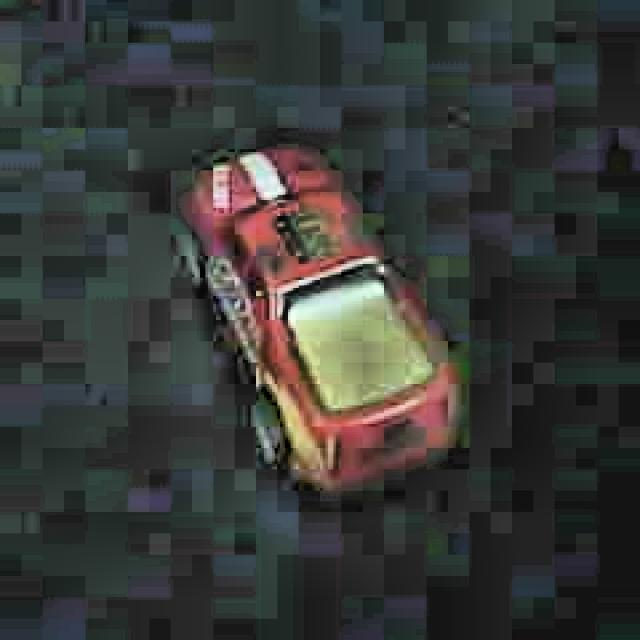car: (179, 140, 464, 498)
